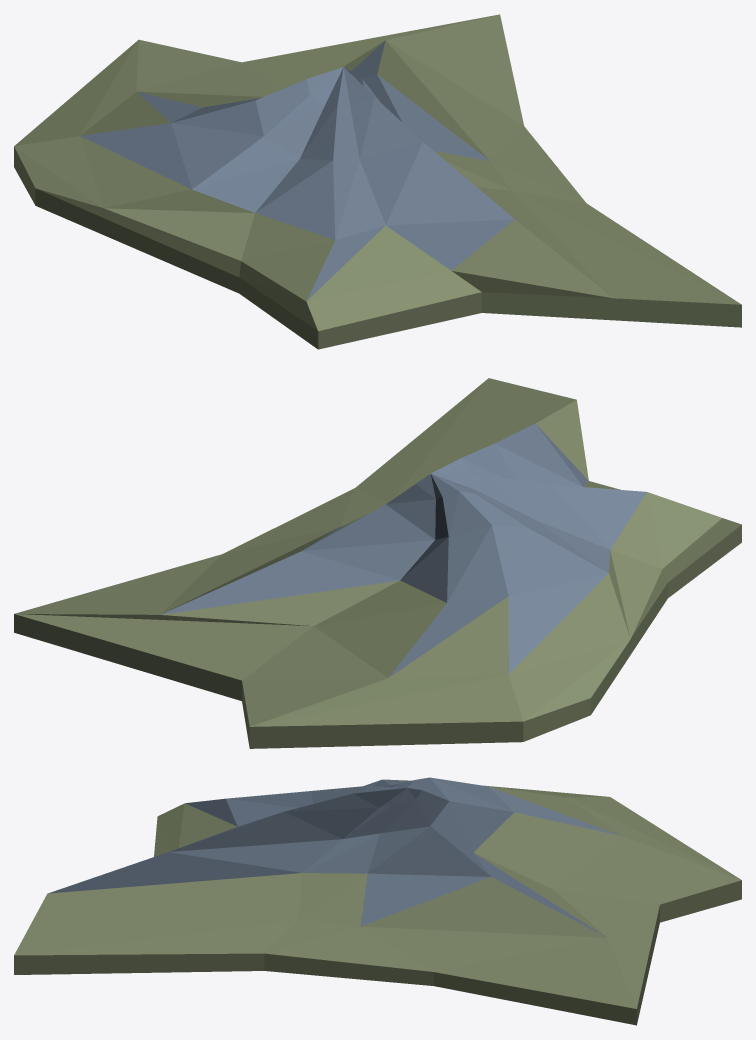
File: massif_west_foothill.glb
3 views of the same model, one above another, from view 1: azimuth 30°, elevation 25°; view 2: azimuth 150°, elevation 25°; view 3: azimuth 270°, elevation 25° (orthographic). The views are drawn at different scales.
Parts seen in each view (by area): view 1: massif_west_foothill; view 2: massif_west_foothill; view 3: massif_west_foothill.
Boxes of the visible parts, box(x1,y1,x2,y2) form: massif_west_foothill: box(14, 14, 741, 349); massif_west_foothill: box(14, 378, 741, 748); massif_west_foothill: box(14, 777, 741, 1025).
Size of the model in its own units: 389 by 95.33 by 543.
